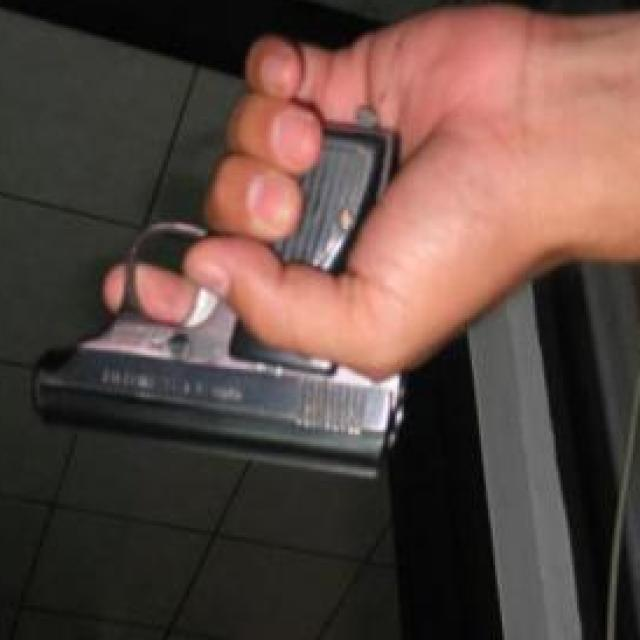pistol: (28, 121, 412, 486)
